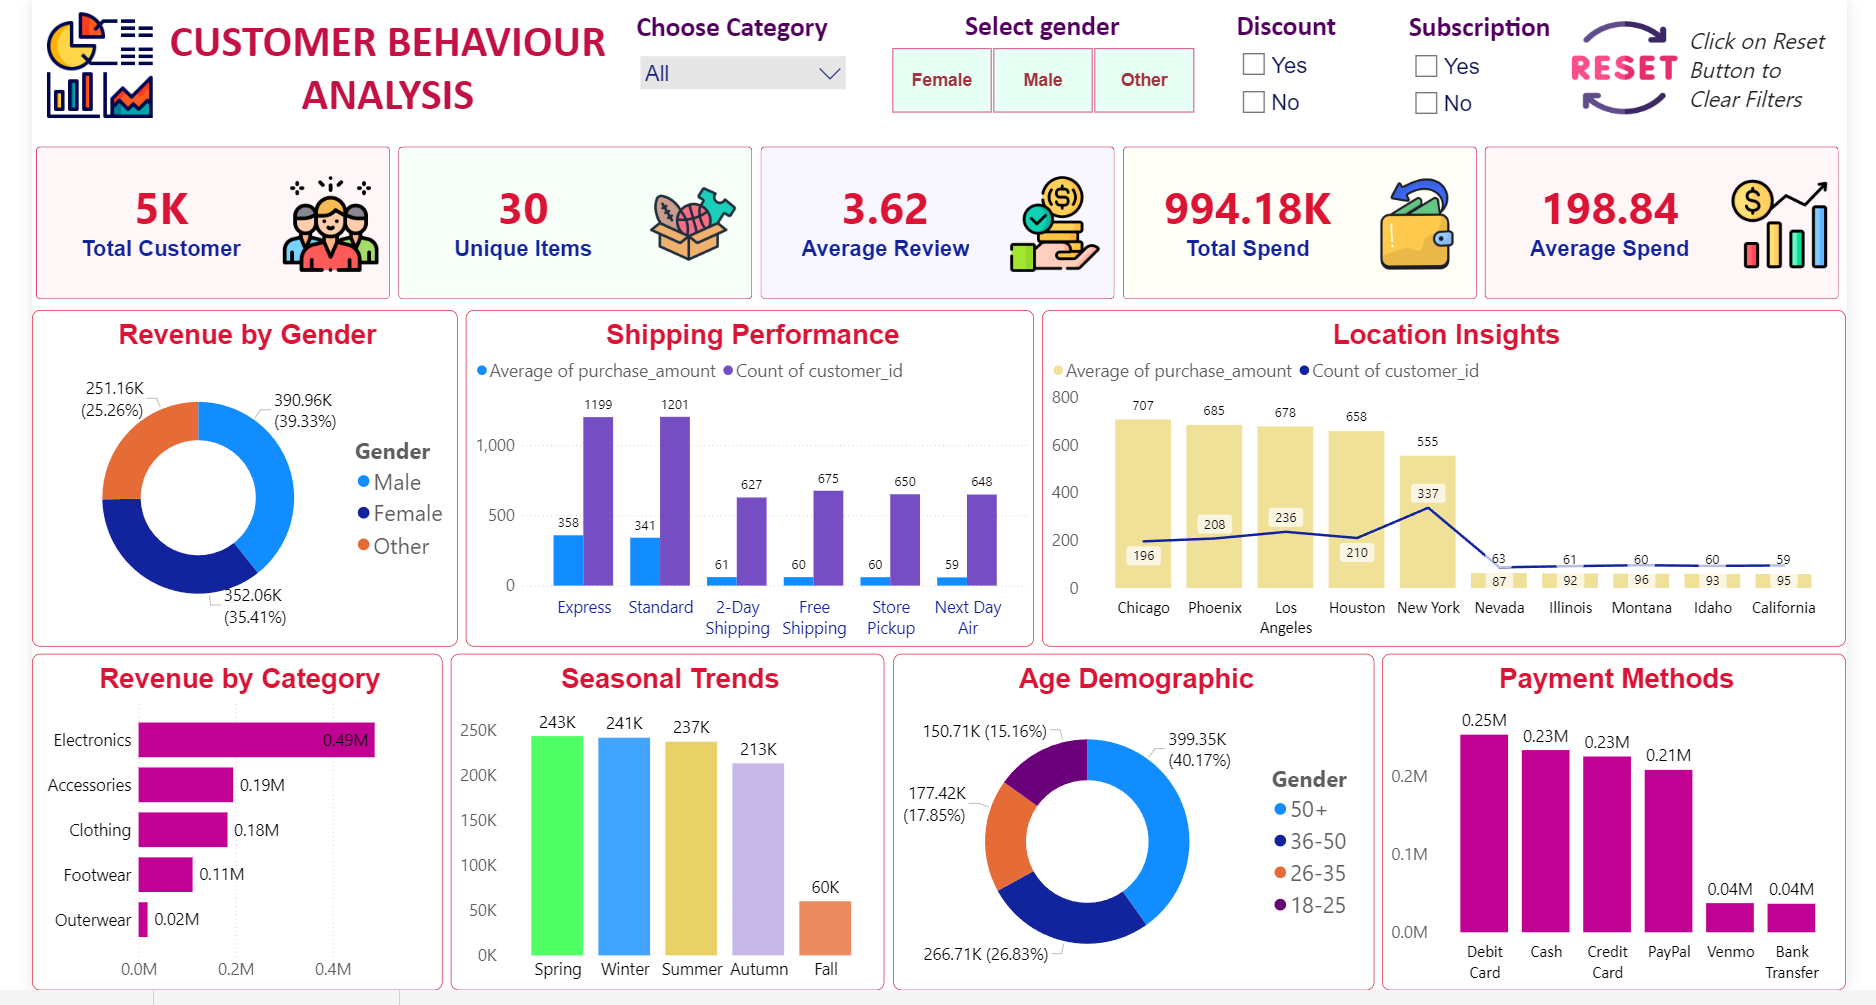

What the dashboard file says about the page in this screenshot:
{"tool":"powerbi","page":{"name":"Customer Revenue Analysis","canvas":[2200,1200],"ordinal":0},"visuals":[{"type":"cardVisual","fields":{"Data":["customer_behaviour_analysis.Measure","customer_behaviour_analysis.Unique Items","customer_behaviour_analysis.Average Review","customer_behaviour_analysis.Total Spend","customer_behaviour_analysis.Average Spend"]},"box":[0,173.2,2199.1,195.7],"z":0},{"type":"donutChart","title":"Revenue by Gender","fields":{"Category":["customer_behaviour_analysis.gender"],"Y":["Sum(customer_behaviour_analysis.purchase_amount)"]},"box":[0,375,515.6,407.6],"z":1000},{"type":"barChart","title":"Revenue by Category","fields":{"Category":["customer_behaviour_analysis.category"],"Y":["Sum(customer_behaviour_analysis.purchase_amount)"]},"box":[0,792.8,497.3,407.6],"z":2000},{"type":"clusteredColumnChart","title":"Shipping Performance","fields":{"Category":["customer_behaviour_analysis.shipping_type"],"Y":["Avg(customer_behaviour_analysis.purchase_amount)","CountNonNull(customer_behaviour_analysis.customer_id)"]},"box":[525.8,375,688.9,407.6],"z":3000},{"type":"clusteredColumnChart","title":"Seasonal Trends","fields":{"Category":["customer_behaviour_analysis.season"],"Y":["Sum(customer_behaviour_analysis.purchase_amount)"]},"box":[507.5,792.4,525.8,407.6],"z":4000},{"type":"donutChart","title":"Age Demographic","fields":{"Y":["Sum(customer_behaviour_analysis.purchase_amount)"],"Category":["customer_behaviour_analysis.age (groups)"]},"box":[1043.5,792.4,582.9,407.6],"z":5000},{"type":"clusteredColumnChart","title":"Payment Methods","fields":{"Category":["customer_behaviour_analysis.payment_method"],"Y":["Sum(customer_behaviour_analysis.purchase_amount)"]},"box":[1636.6,792.8,562.5,407.6],"z":6000},{"type":"lineClusteredColumnComboChart","title":"Location Insights","fields":{"Category":["customer_behaviour_analysis.location"],"Y":["Avg(customer_behaviour_analysis.purchase_amount)"],"Y2":["CountNonNull(customer_behaviour_analysis.customer_id)"]},"box":[1224.9,375,974.2,407.6],"z":7000},{"type":"textbox","box":[152.9,12.2,556.4,159],"z":8000},{"type":"image","box":[10.2,10.2,142.7,136.5],"z":9000},{"type":"slicer","title":"Choose Category","fields":{"Values":["customer_behaviour_analysis.category"]},"box":[727.6,12.2,269,134.5],"z":10000},{"type":"slicer","title":"Select gender","fields":{"Values":["customer_behaviour_analysis.gender"]},"box":[1017,10.2,415.8,132.5],"z":11000},{"type":"slicer","title":"Discount","fields":{"Values":["customer_behaviour_analysis.discount_applied"]},"box":[1455.2,10.2,207.9,161],"z":12000},{"type":"slicer","title":"Subscription","fields":{"Values":["customer_behaviour_analysis.subscription_status"]},"box":[1663.1,12.2,207.9,161],"z":13000},{"type":"actionButton","box":[1866.8,25.6,128,113.1],"z":14000},{"type":"textbox","box":[2003.3,25.6,187.7,123.7],"z":14001}]}

Visuals, with their boxes in screenshot pixels (x1, y1, x2, y2), scaled from the page's 2200x1200 canvas onto the 1876x1005 screenshot:
cardVisual - customer_behaviour_analysis.Measure x customer_behaviour_analysis.Unique Items: x1=0, y1=145, x2=1875, y2=309
"Revenue by Gender" donutChart: x1=0, y1=314, x2=440, y2=655
"Revenue by Category" barChart: x1=0, y1=664, x2=424, y2=1004
"Shipping Performance" clusteredColumnChart: x1=448, y1=314, x2=1036, y2=655
"Seasonal Trends" clusteredColumnChart: x1=433, y1=664, x2=881, y2=1004
"Age Demographic" donutChart: x1=890, y1=664, x2=1387, y2=1004
"Payment Methods" clusteredColumnChart: x1=1396, y1=664, x2=1875, y2=1004
"Location Insights" lineClusteredColumnComboChart: x1=1045, y1=314, x2=1875, y2=655
textbox: x1=130, y1=10, x2=605, y2=143
image: x1=9, y1=9, x2=130, y2=123
"Choose Category" slicer: x1=620, y1=10, x2=850, y2=123
"Select gender" slicer: x1=867, y1=9, x2=1222, y2=120
"Discount" slicer: x1=1241, y1=9, x2=1418, y2=143
"Subscription" slicer: x1=1418, y1=10, x2=1595, y2=145
actionButton: x1=1592, y1=21, x2=1701, y2=116
textbox: x1=1708, y1=21, x2=1868, y2=125
